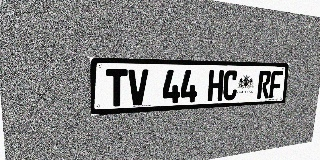4: (162, 70, 181, 104), (180, 70, 198, 103)
C: (222, 70, 238, 101)
F: (269, 71, 283, 98)
H: (207, 70, 224, 101)
R: (257, 71, 271, 99)
T: (106, 69, 128, 107)
V: (128, 69, 148, 106)
